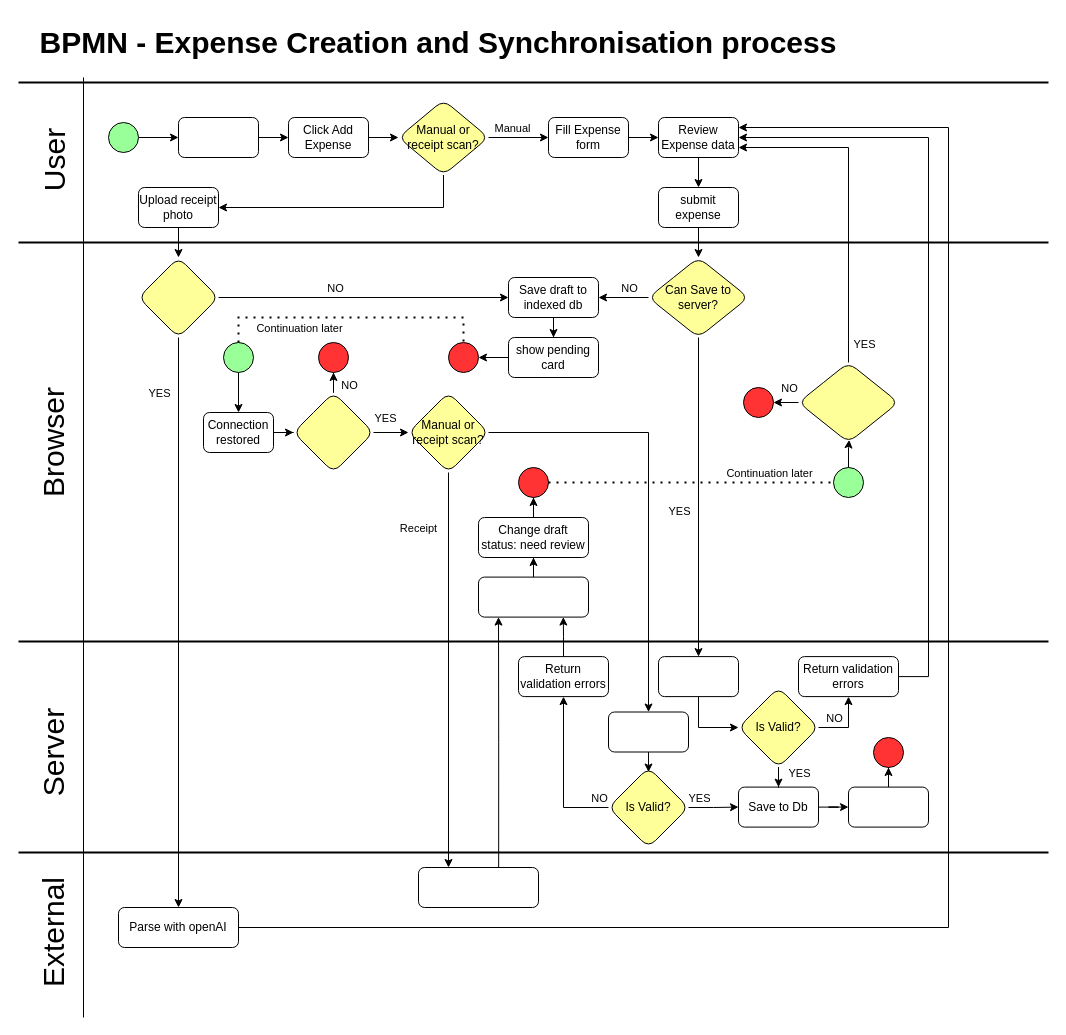
The diagram is 1066 pixels wide and 1035 high, and some of its shapes have lost their labels. The shapes that lost their labels are listed below. From the top down, each one's centre as x and y in pixels, then its label:
At [218,137]: "Open trip detail".
At [178,297]: "Can Parse now?".
At [848,402]: "Any Needed review?".
At [333,432]: "Any pending drafts?".
At [533,596]: "Store data in draft".
At [698,676]: "Validate Expense".
At [648,731]: "Validate Draft".
At [888,806]: "return updated list".
At [478,887]: "Parse with open AI".
